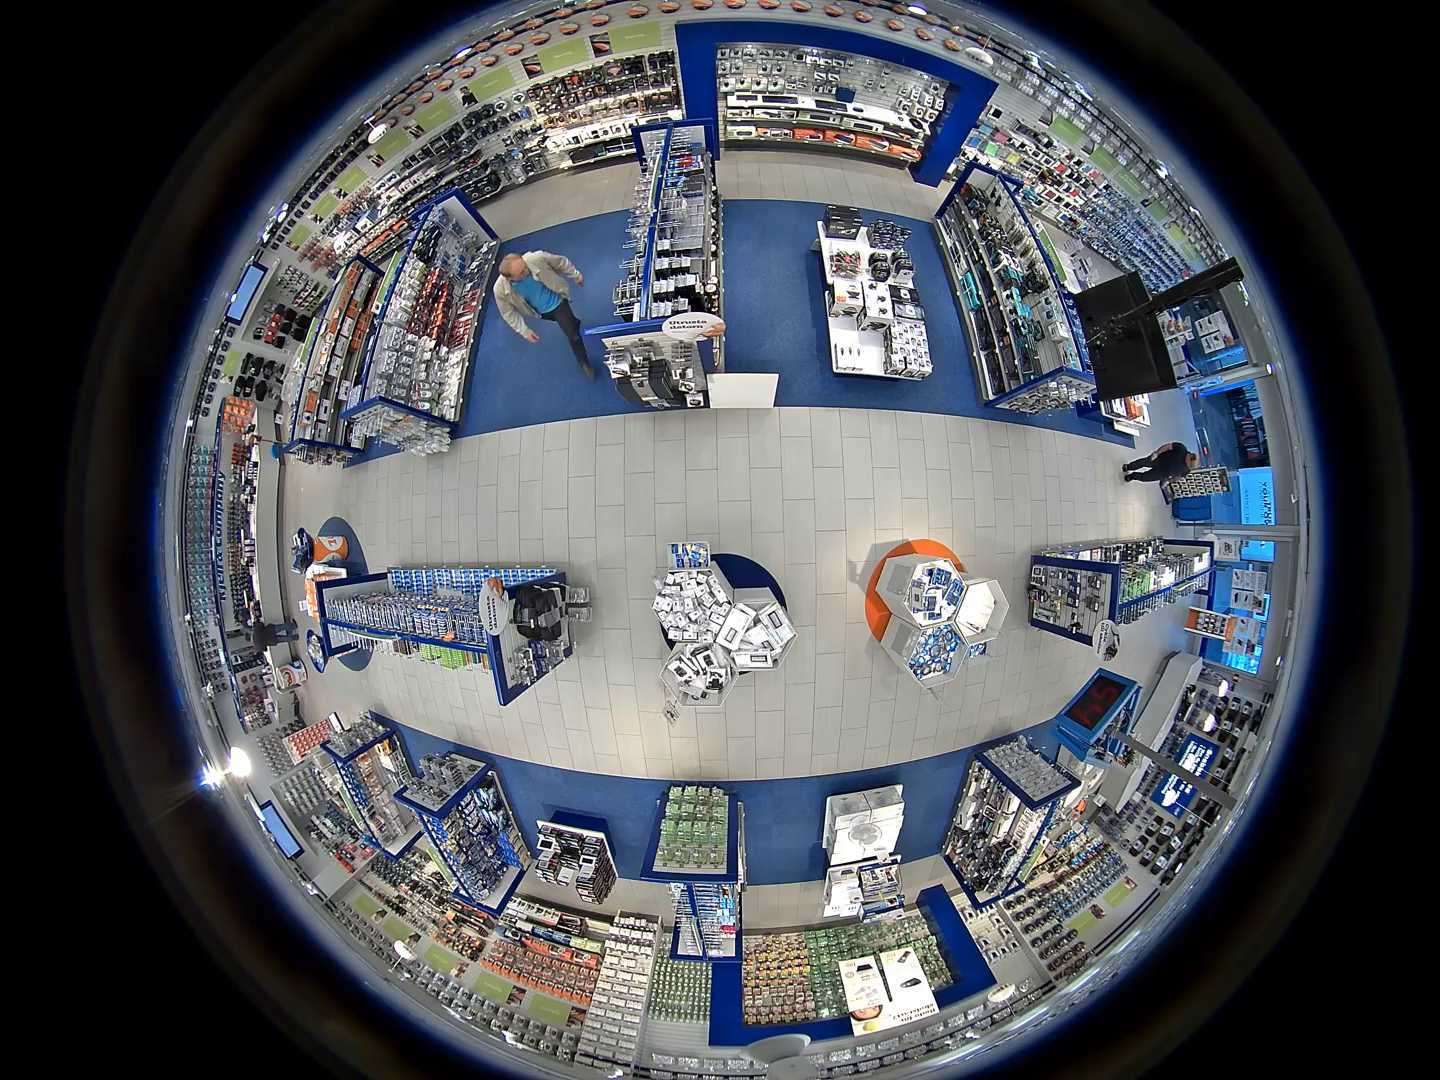person: (493, 249, 598, 379), (1121, 442, 1198, 489), (244, 618, 299, 652), (234, 607, 252, 627)
